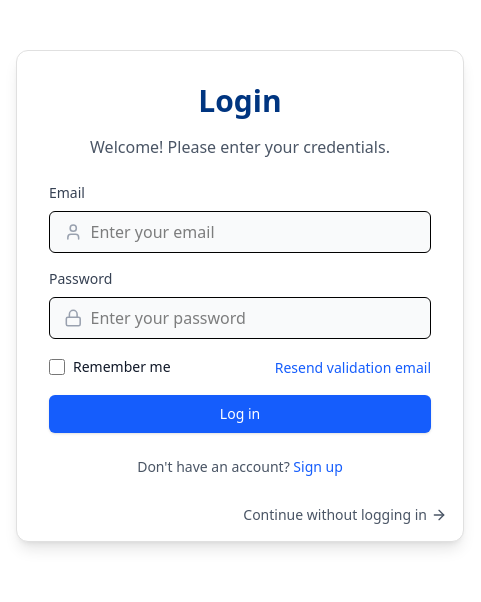
Test case: Login Component › should allow login with valid credentials
This screenshot has width=481, height=602.
Type "test@example.com" into the field with placeholder "Enter your email" at (253, 232), box top-left (90, 220), bottom-right (416, 244)
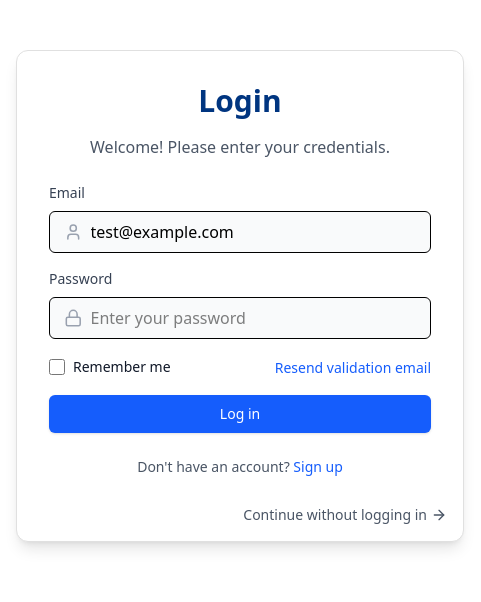
Type "StrongPass1!" into the password field with placeholder "Enter your password" at (253, 318), box top-left (90, 306), bottom-right (416, 330)
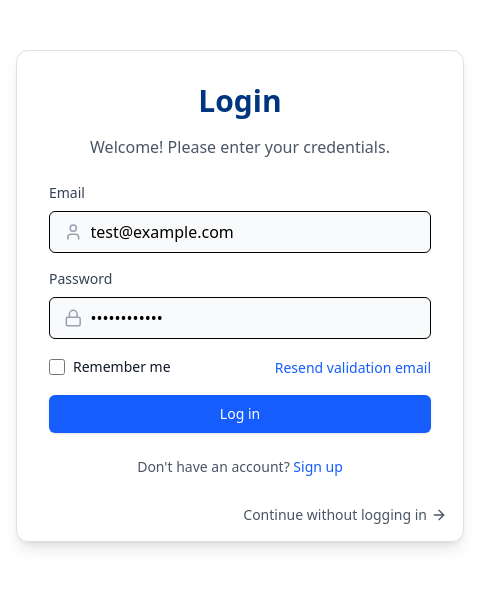
Click the button "Log in" at (240, 414), box top-left (49, 395), bottom-right (431, 433)
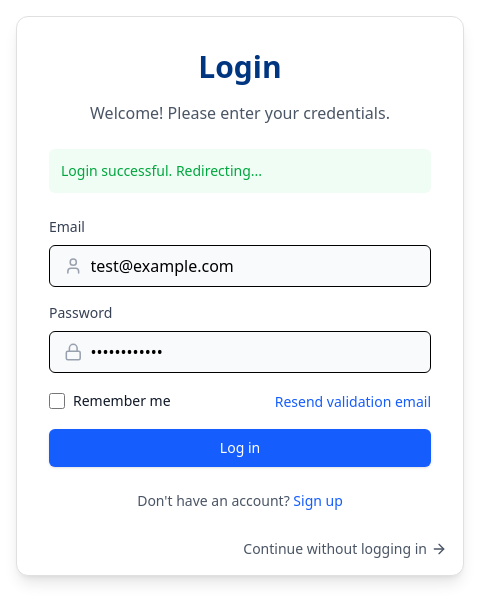
Result: the text "Login successful. Redirecting..." is shown at top-left (61, 161), bottom-right (262, 181)
